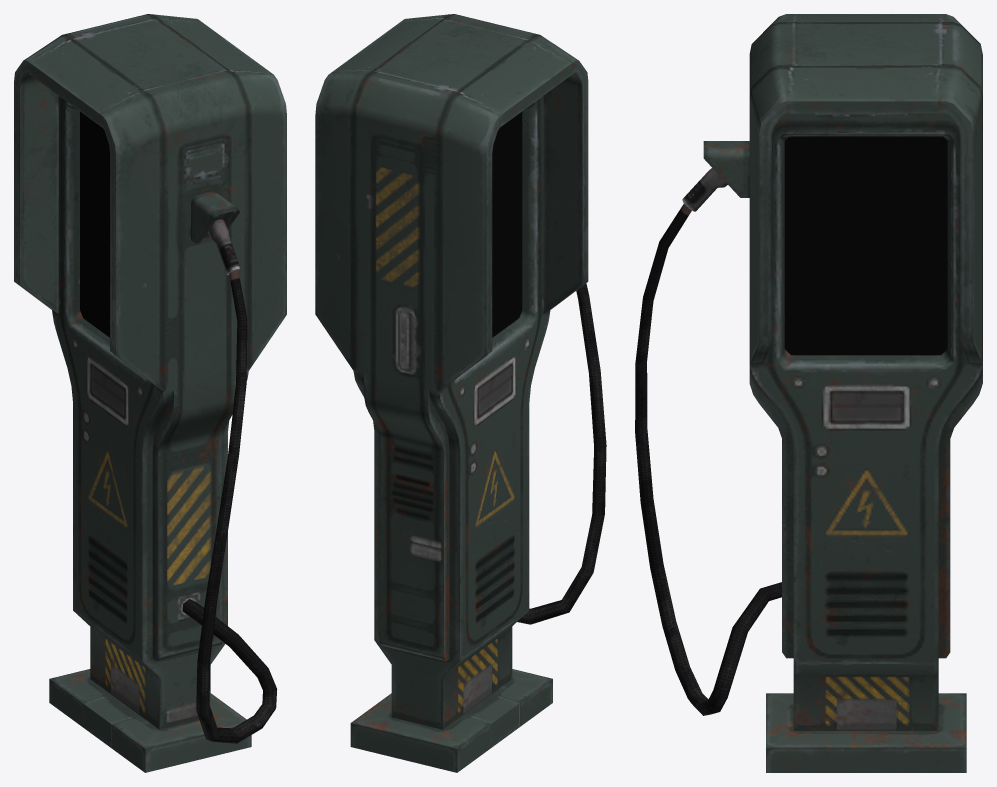
Rendered from CP_Electric_Charging_01.fbx.
3 renders of one model, left to right at view 1: azimuth 30°, elevation 25°; view 2: azimuth 150°, elevation 25°; view 3: azimuth 270°, elevation 25°, orthographic. The views are drawn at different scales.
Visible parts, largest first — view 1: CP_Electric_Charging_01_LOD0; view 2: CP_Electric_Charging_01_LOD0; view 3: CP_Electric_Charging_01_LOD0.
Part boxes in pixels (box(x1,y1,x2,y2)): CP_Electric_Charging_01_LOD0: box(14, 14, 286, 772); CP_Electric_Charging_01_LOD0: box(315, 14, 606, 772); CP_Electric_Charging_01_LOD0: box(635, 14, 982, 772).
Size of what is drawn, in the model's own units: 44.06 by 165 by 74.17.
